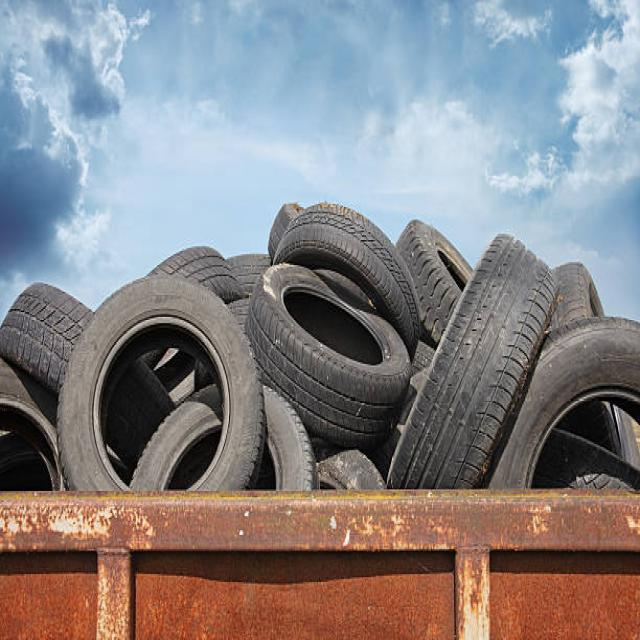plastic: (9, 184, 628, 483)
